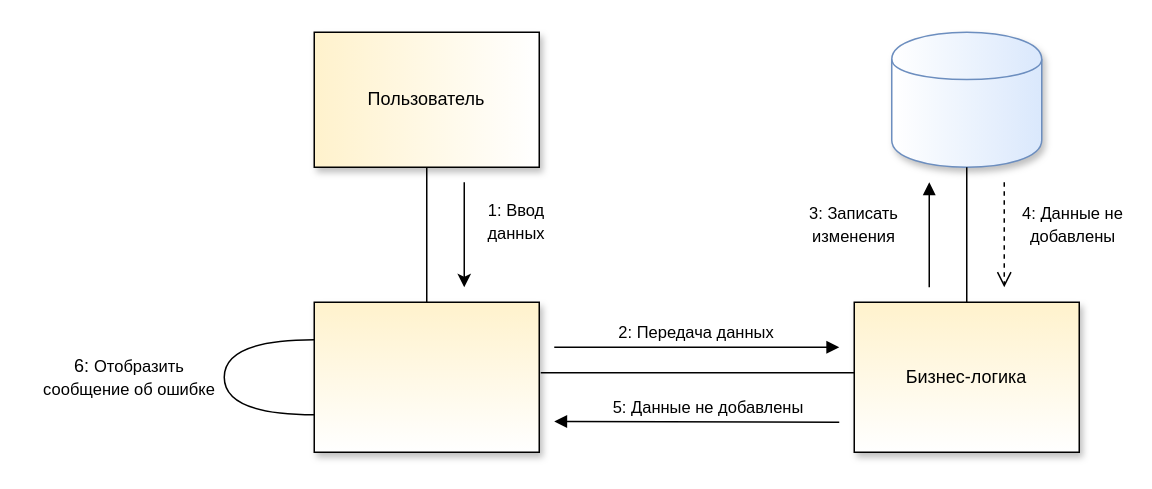
Image size: 1152x489. Some labels were removed from this diagram. The shapes that lost their labels are listed below. From the top down, each one's centre as x and y in pixels, then its label:
point 967,101: БД
point 427,379: Пользовательский интерфейс
